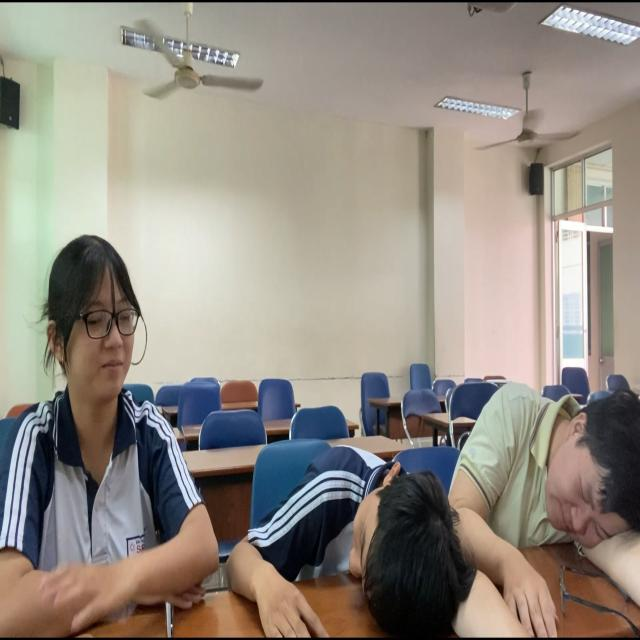sleep: (226, 434, 492, 640), (452, 390, 640, 620)
